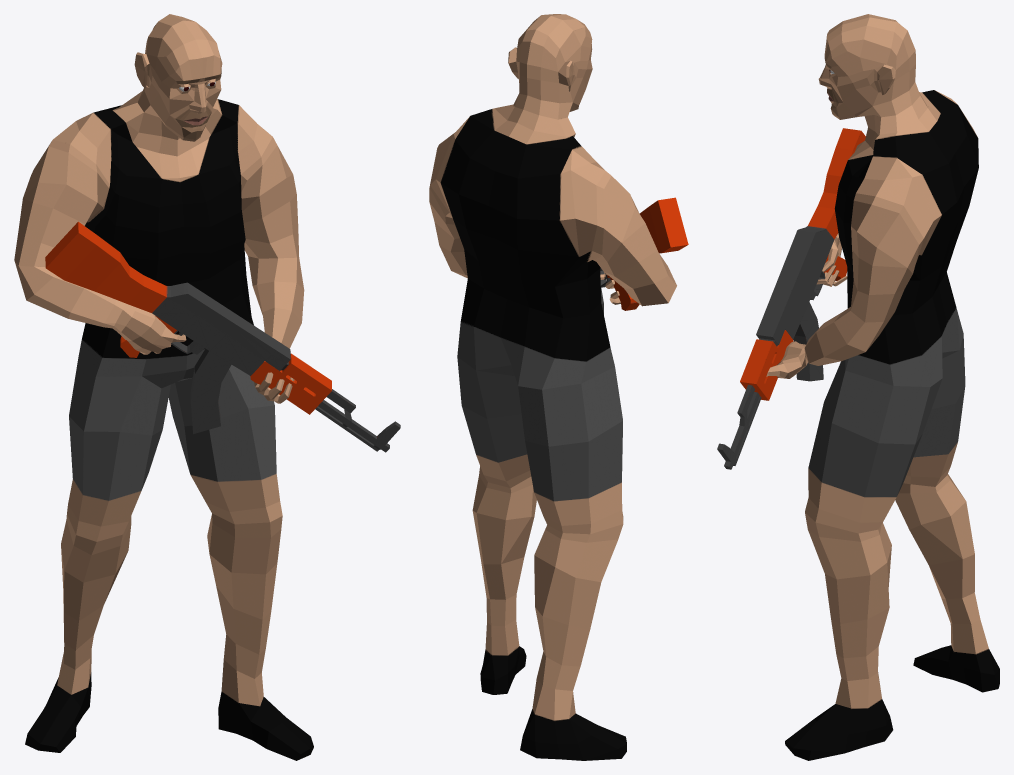
Rendered from PlayerIdle(90).obj.
3 renders of one model, left to right at view 1: azimuth 30°, elevation 25°; view 2: azimuth 150°, elevation 25°; view 3: azimuth 270°, elevation 25°, orthographic. The views are drawn at different scales.
Visible parts, largest first — view 1: Plane002, Object001; view 2: Plane002, Object001; view 3: Plane002, Object001.
Boxes of the visible parts, x1,y1,x2,y2 form: Plane002: (14,14,313,760); Object001: (45,221,400,452); Plane002: (429,14,676,760); Object001: (600,197,688,314); Plane002: (766,14,999,760); Object001: (717,128,865,469).
Size of the model in its own units: 739 by 1802 by 663.
